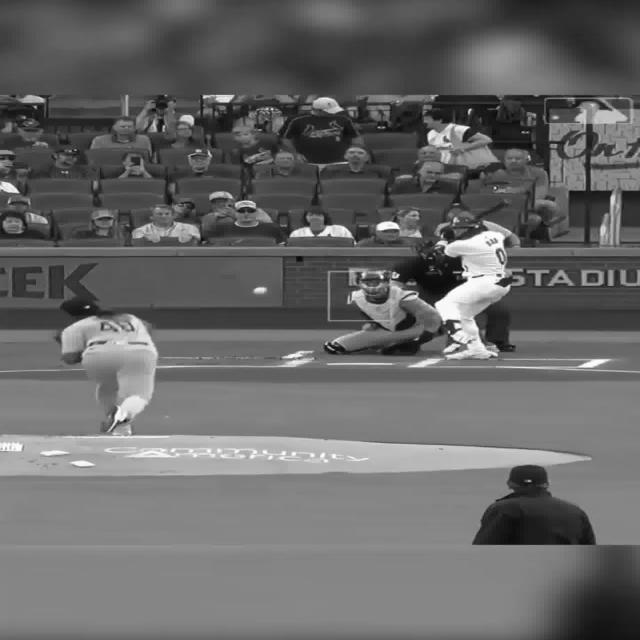base: (326, 360, 398, 366)
baseball: (252, 288, 266, 296)
baseball_glove: (382, 337, 420, 357)
bat: (478, 198, 512, 220)
shoe: (440, 329, 480, 351), (102, 407, 126, 432), (444, 350, 492, 360), (110, 424, 134, 436)
